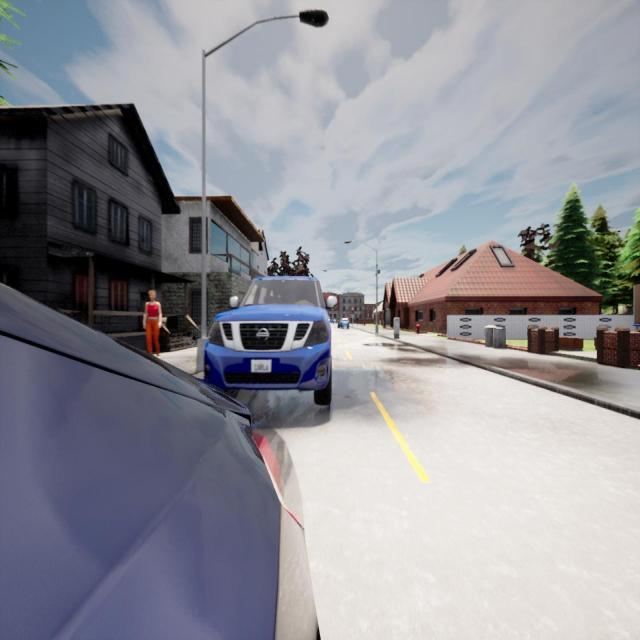Pedestrian: (143, 289, 161, 356)
Vehicle: (0, 284, 318, 640), (205, 277, 331, 404), (338, 317, 349, 330), (332, 319, 337, 324)
traffic_light: (352, 307, 354, 313)
